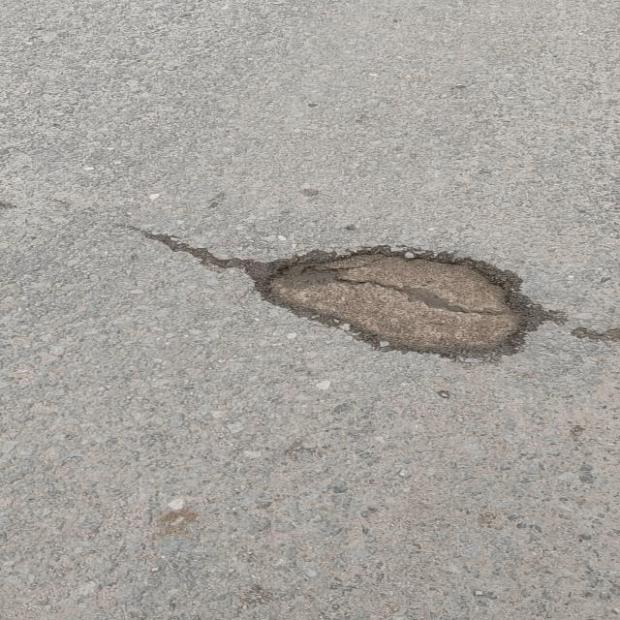lubang: (155, 235, 553, 356)
